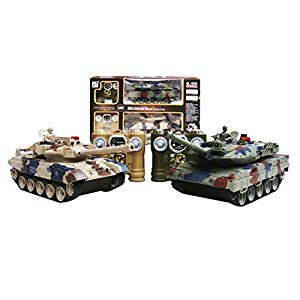Battle Tank: (4, 129, 133, 203), (168, 133, 292, 206)
